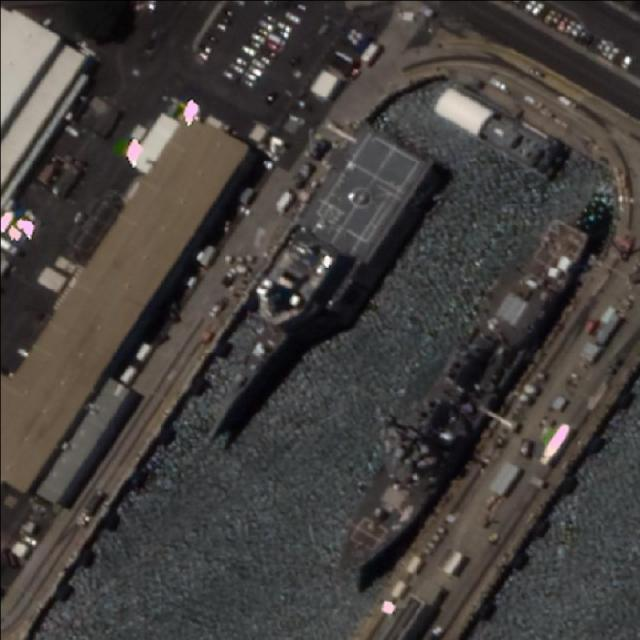Destroyer: (321, 210, 593, 590)
Frigate: (172, 116, 433, 471)
